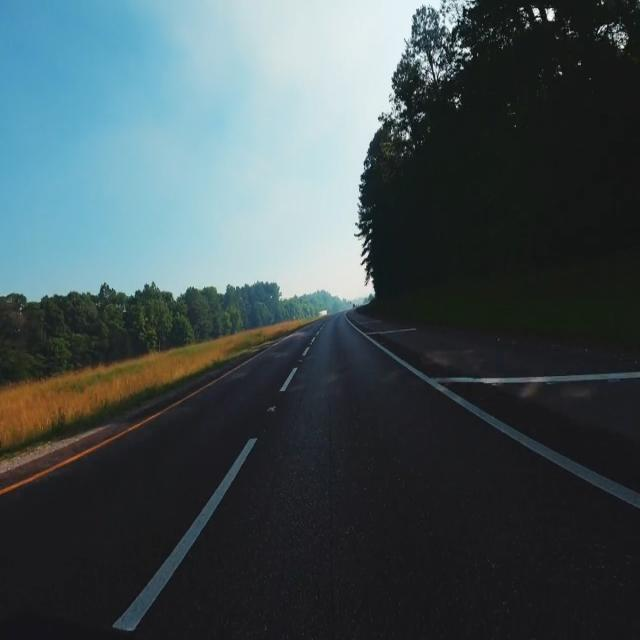asphalt: (0, 312, 640, 639)
